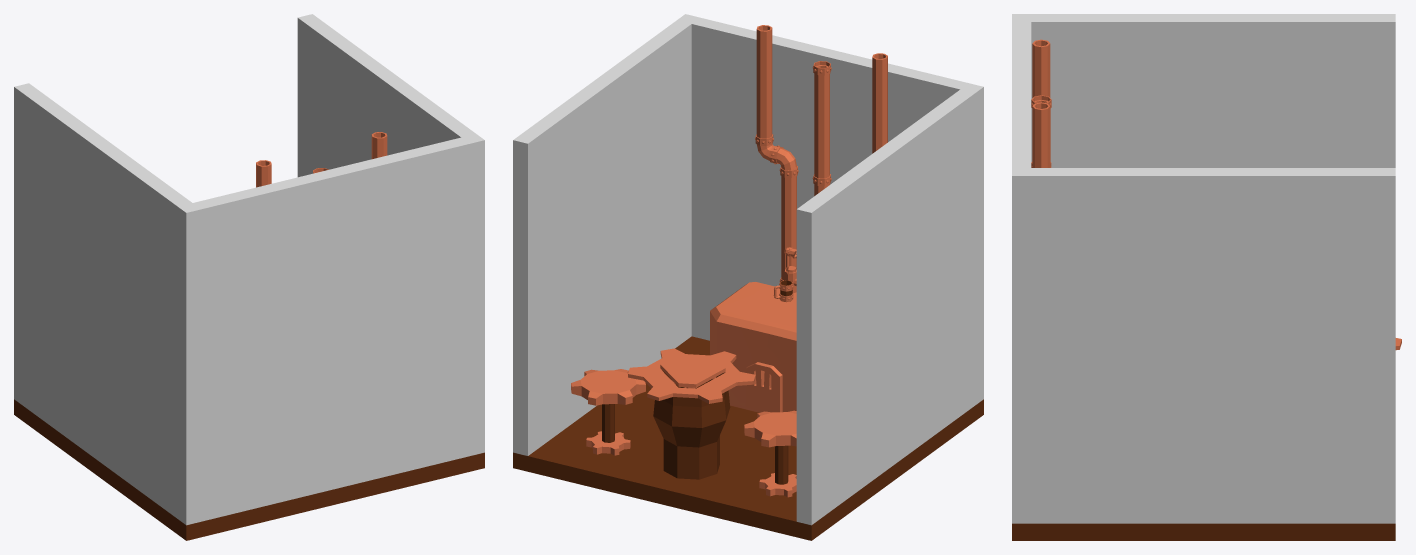
The model's file is punkiedüz.fbx.
3 renders of one model, left to right at view 1: azimuth 30°, elevation 25°; view 2: azimuth 150°, elevation 25°; view 3: azimuth 270°, elevation 25°, orthographic. The views are drawn at different scales.
Visible parts, largest first — view 1: Cube.056, Cube.055, Cube.054, Cube.053; view 2: Cube.055, Cube.054, Cube.056, Cube.053, Furnace, TableBottom.001, Cusion.008, FurnacePipeL.006, FurnacePipeM.003, FurnaceDoor, Cusion.009, FurnacePipeL.004 (+9 smaller); view 3: Cube.054, Cube.055, Cube.053, Cube.056, FurnacePipeL.006, FurnacePipeL.004.
Part boxes in pixels (left/top/right/bottom): Cube.056: left=193, top=137, right=469, bottom=521; Cube.055: left=14, top=83, right=201, bottom=525; Cube.054: left=297, top=14, right=484, bottom=455; Cube.053: left=14, top=399, right=484, bottom=540; Cube.055: left=796, top=83, right=983, bottom=525; Cube.054: left=513, top=14, right=699, bottom=455; Cube.056: left=691, top=17, right=968, bottom=340; Cube.053: left=513, top=336, right=983, bottom=540; Furnace: left=710, top=282, right=796, bottom=412; TableBottom.001: left=653, top=370, right=730, bottom=479; Cusion.008: left=571, top=369, right=645, bottom=405; FurnacePipeL.006: left=756, top=25, right=772, bottom=138; FurnacePipeM.003: left=812, top=61, right=831, bottom=178; FurnaceDoor: left=745, top=362, right=782, bottom=412; Cusion.009: left=744, top=410, right=796, bottom=447; FurnacePipeL.004: left=872, top=53, right=887, bottom=153; Cube.054: left=1012, top=168, right=1395, bottom=523; Cube.055: left=1012, top=14, right=1395, bottom=167; Cube.053: left=1012, top=523, right=1395, bottom=540; Cube.056: left=1012, top=22, right=1031, bottom=167; FurnacePipeL.006: left=1032, top=102, right=1050, bottom=167; FurnacePipeL.004: left=1032, top=39, right=1050, bottom=97.
Bounding box in the file's own units: 7000 × 7749 × 7116.
